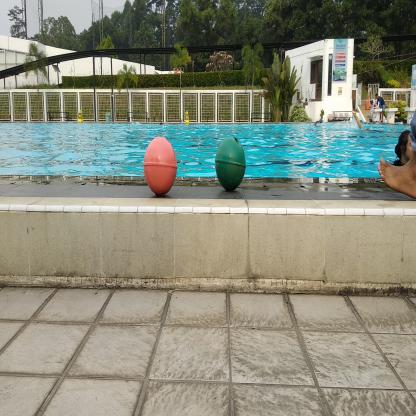green_buoy: (213, 127, 249, 198)
red_buoy: (142, 131, 180, 202)
